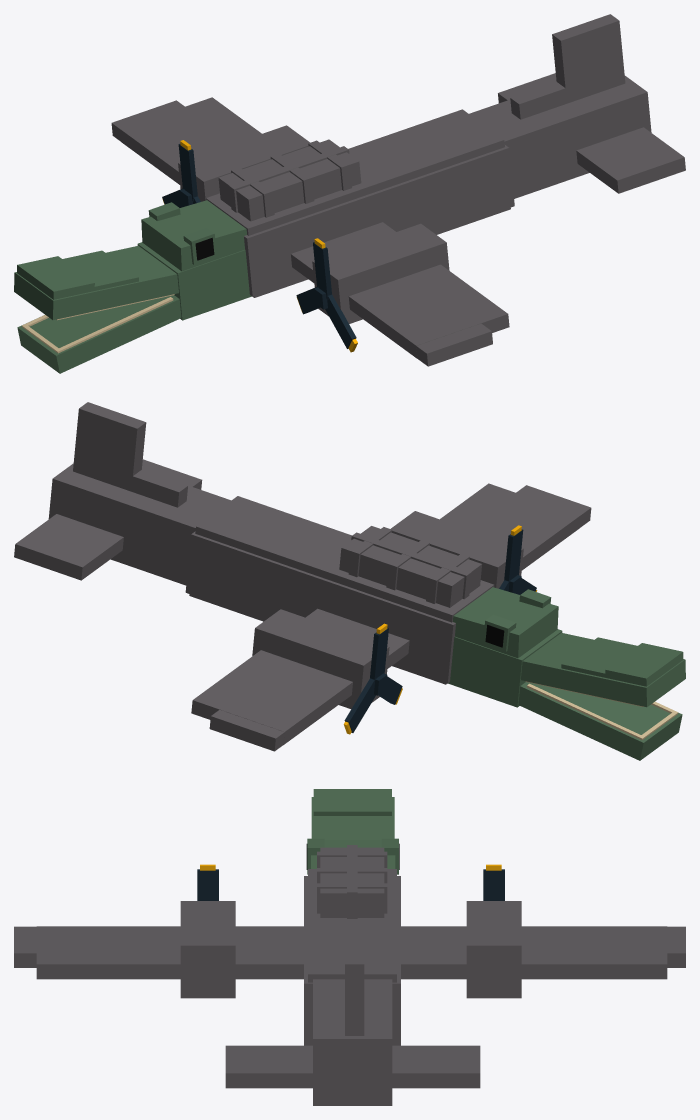
File: Bombardiro_Crocodilo.fbx
3 renders of one model, top to bottom at view 1: azimuth 30°, elevation 25°; view 2: azimuth 150°, elevation 25°; view 3: azimuth 270°, elevation 25°, orthographic. The views are drawn at different scales.
Parts seen in each view (by area): view 1: Bombardiro_Crocodilo; view 2: Bombardiro_Crocodilo; view 3: Bombardiro_Crocodilo.
Part boxes in pixels (x1,y1,x2,y2): Bombardiro_Crocodilo: [14, 14, 685, 373]; Bombardiro_Crocodilo: [14, 402, 685, 760]; Bombardiro_Crocodilo: [14, 789, 685, 1105].
Bounding box in the file's own units: 1277 × 409 × 1161.
